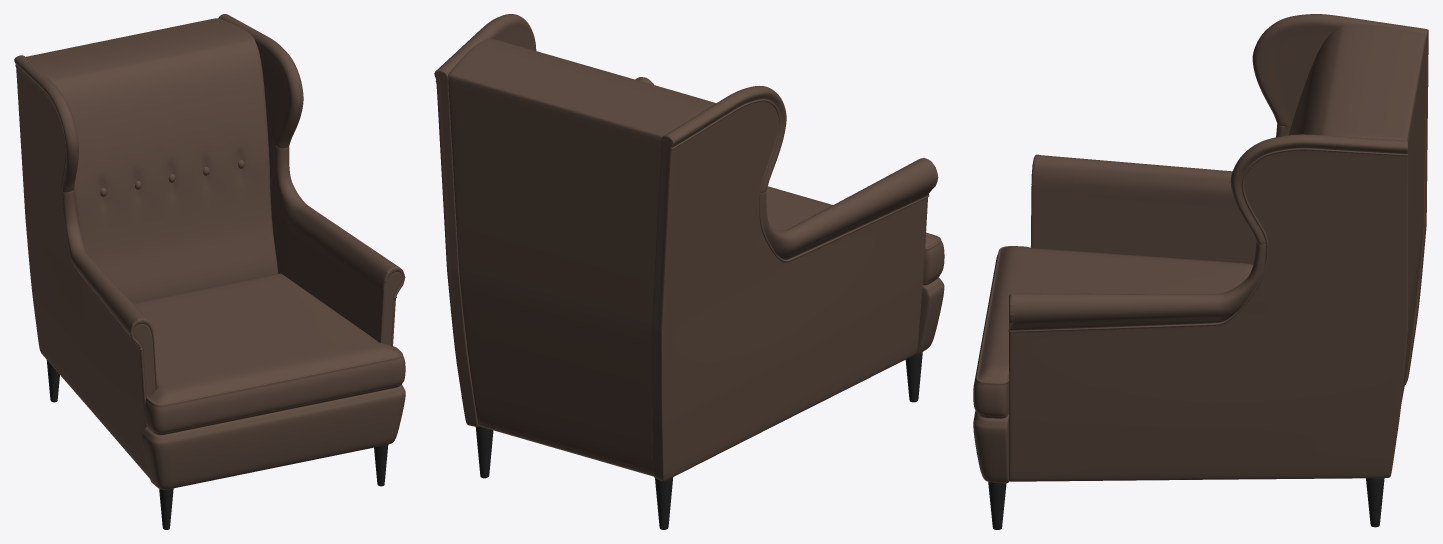
Rendered from armchair.fbx.
3 renders of one model, left to right at view 1: azimuth 30°, elevation 25°; view 2: azimuth 150°, elevation 25°; view 3: azimuth 270°, elevation 25°, orthographic. The views are drawn at different scales.
Visible parts, largest first — view 1: back.001, armrests.001, pillow.001, armchair_bottow.001, legs.004; view 2: back.001, armrests.001, pillow.001, legs.004, armchair_bottow.001; view 3: armrests.001, back.001, pillow.001, armchair_bottow.001, legs.004.
Part boxes in pixels (x1,y1,x2,y2): back.001: (26,18,278,302); armrests.001: (14,14,405,478); pillow.001: (133,273,405,435); armchair_bottow.001: (142,384,405,489); legs.004: (46,360,388,529); back.001: (448,38,715,476); armrests.001: (434,14,938,481); pillow.001: (766,186,944,285); legs.004: (475,352,922,529); armchair_bottow.001: (915,277,944,354); armrests.001: (1008,14,1428,481); back.001: (1288,24,1426,403); pillow.001: (973,246,1252,418); armchair_bottow.001: (973,410,1008,482); legs.004: (988,478,1384,529).
Size of the model in its own units: 80.76 by 101 by 103.
